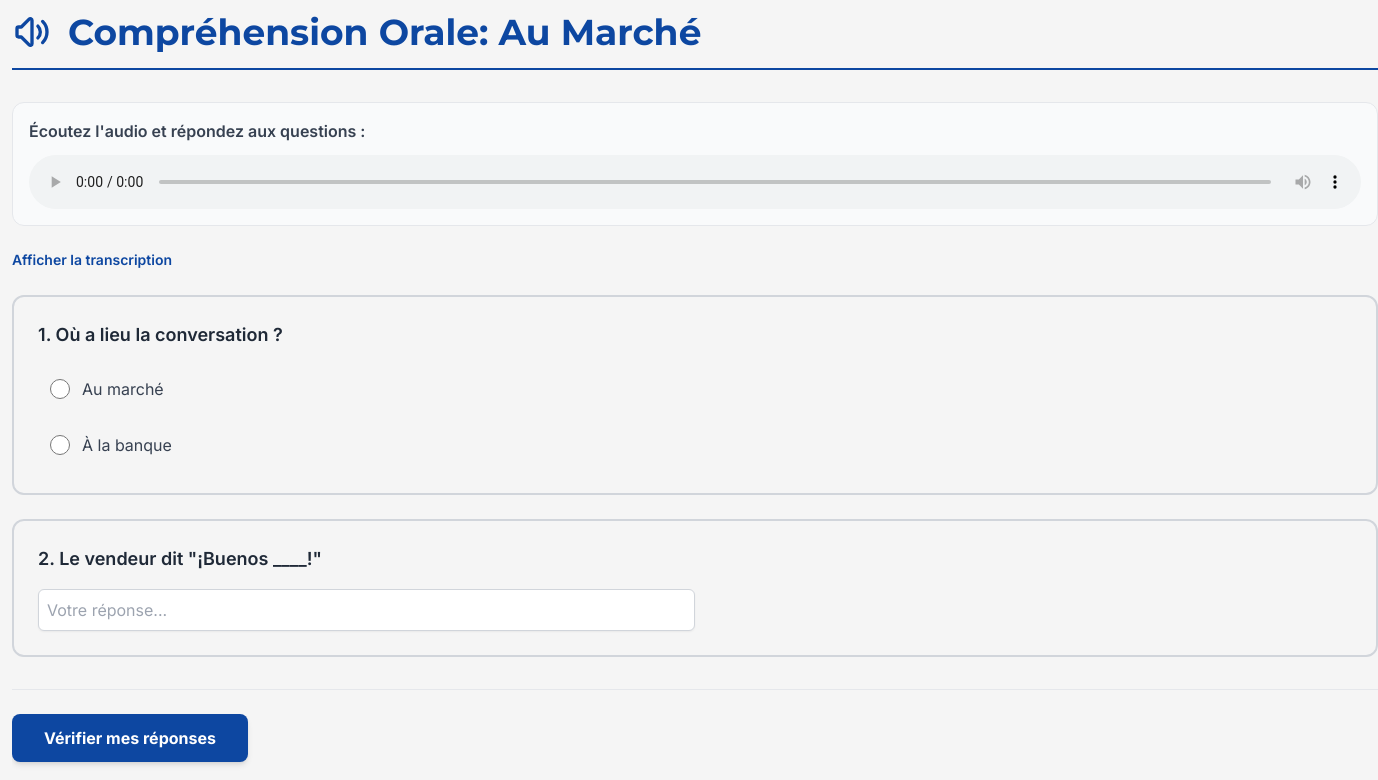
Test: ListeningExercise › affiche et masque la transcription au clic du bouton
expect the text "Vendedor: ¡Buenos días! ¿Qué le pongo?" is not shown: met
# Cliquer pour afficher
Step 1. Click the button "Afficher la transcription" → (92, 260), box [12, 250, 172, 270]
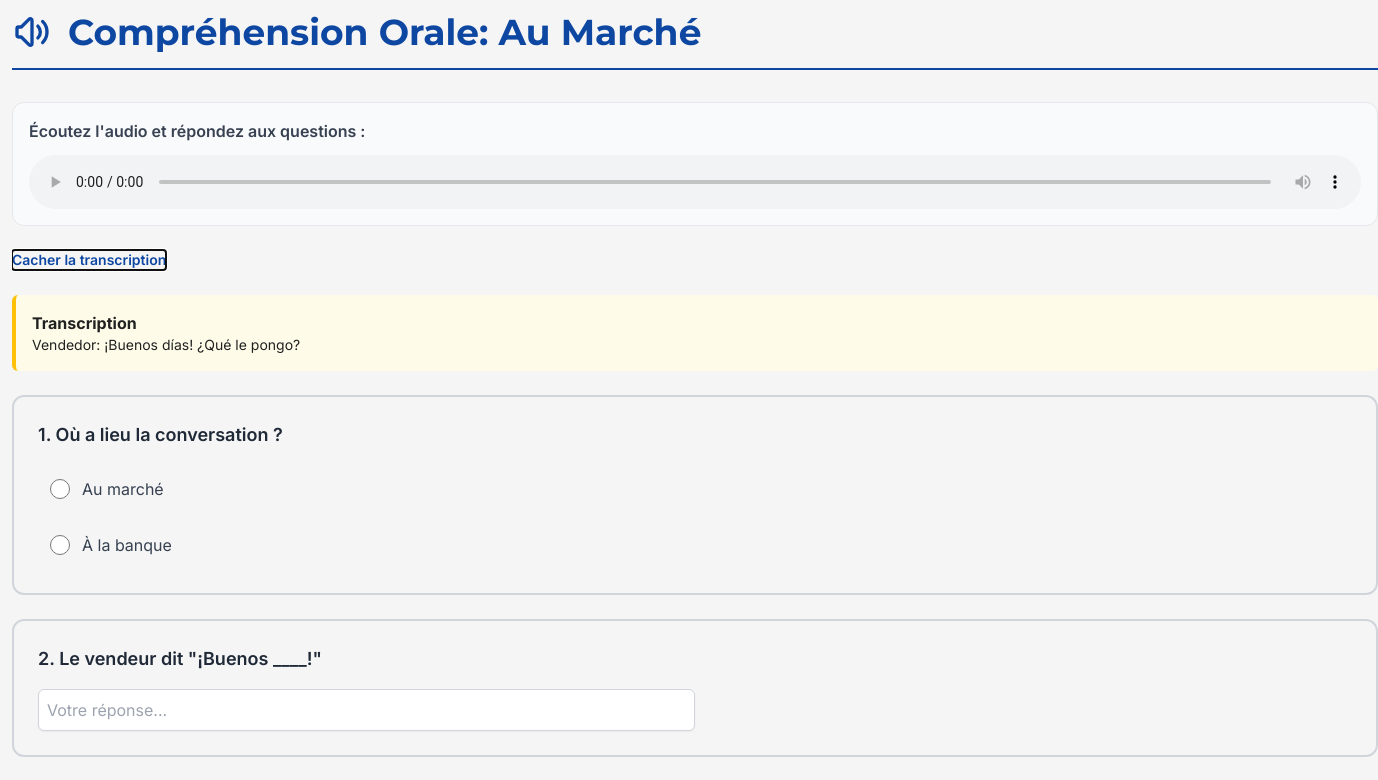
expect the text "Vendedor: ¡Buenos días! ¿Qué le pongo?" is shown: met, box [32, 336, 300, 353]
expect the button "Cacher la transcription" is shown: met
# Cliquer pour masquer
Step 2. Click the button "Cacher la transcription" → (89, 260), box [12, 250, 166, 270]
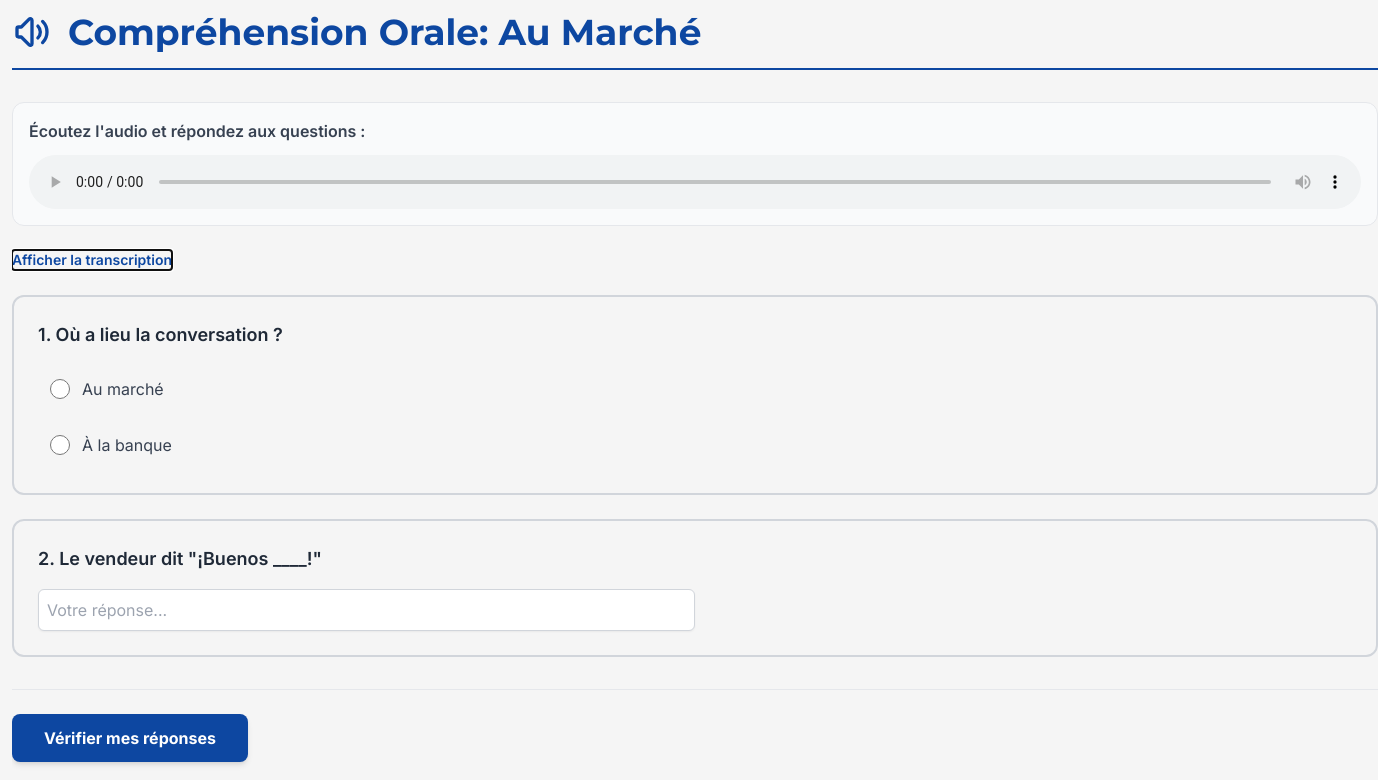
expect the text "Vendedor: ¡Buenos días! ¿Qué le pongo?" is gone: met
